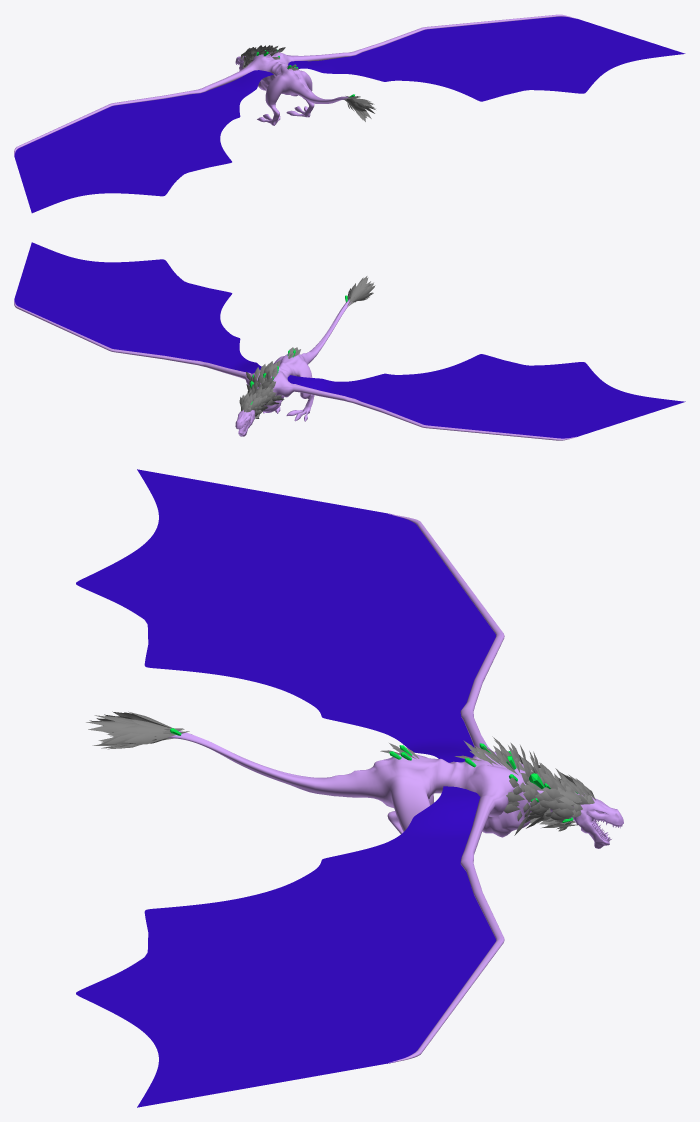
Rendered from ST_wyrves.fbx.
The picture shows the model from 3 angles, top to bottom: view 1: azimuth 30°, elevation 25°; view 2: azimuth 150°, elevation 25°; view 3: azimuth 270°, elevation 25°; orthographic projection. The views are drawn at different scales.
Visible parts, largest first — view 1: ST_Wyrves; view 2: ST_Wyrves; view 3: ST_Wyrves.
Part boxes in pixels (x1,y1,x2,y2): ST_Wyrves: (14, 14, 685, 213); ST_Wyrves: (14, 242, 685, 440); ST_Wyrves: (76, 469, 623, 1107).
Bounding box in the file's own units: 10556 × 1164 × 3831.
